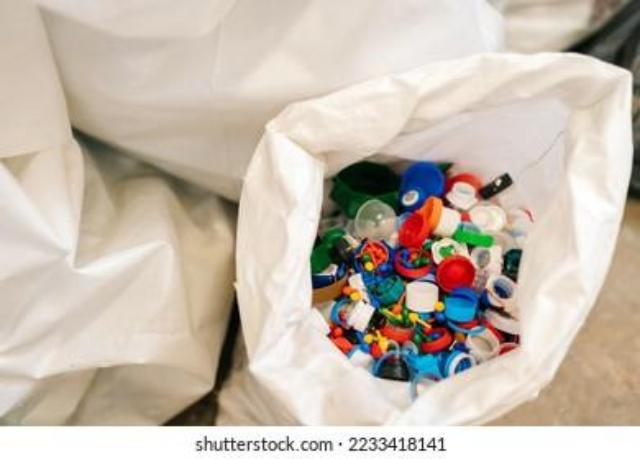Garbage: (310, 161, 534, 384)
Plastic: (311, 161, 534, 399)
